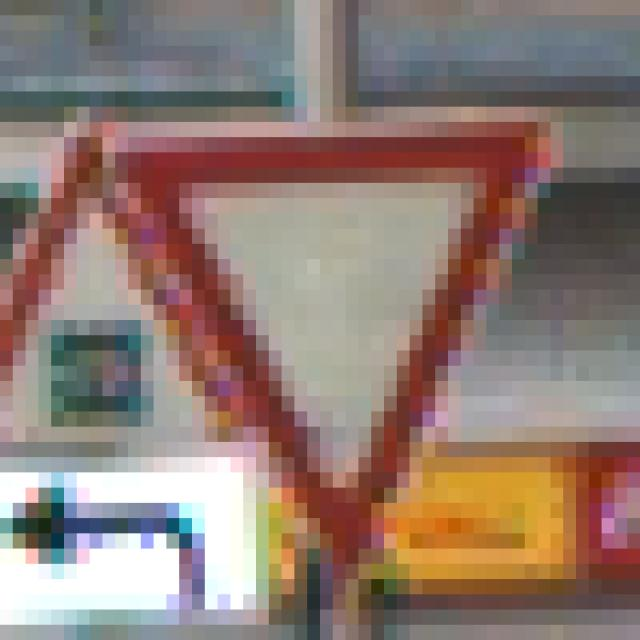Give Way: (78, 77, 564, 565)
